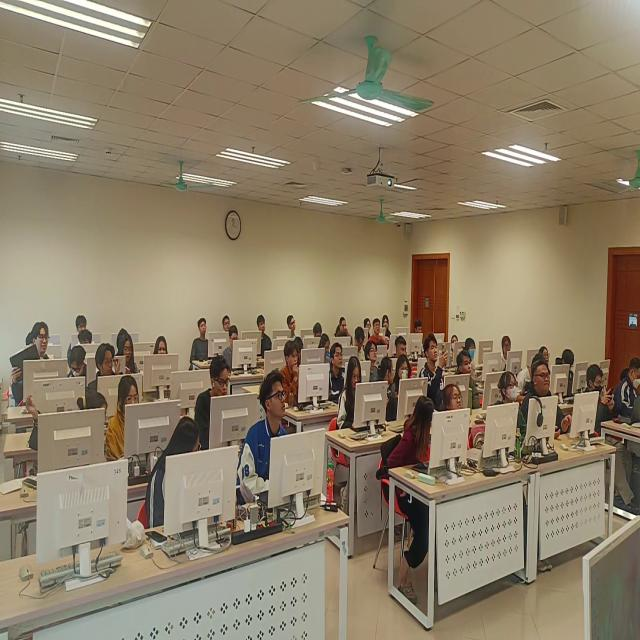raise_head: (239, 367, 291, 508), (523, 362, 575, 441), (197, 353, 233, 447), (490, 371, 528, 451), (13, 321, 52, 396), (91, 341, 117, 409), (455, 349, 482, 410), (281, 339, 302, 403), (328, 342, 346, 402), (191, 315, 212, 363), (440, 380, 466, 413), (256, 314, 274, 358), (364, 337, 381, 383), (335, 313, 351, 338), (395, 333, 411, 358), (153, 334, 170, 356), (372, 317, 385, 343), (466, 334, 478, 360), (285, 315, 300, 335), (501, 337, 513, 361), (76, 313, 88, 333), (451, 333, 461, 356), (383, 313, 391, 336), (541, 345, 551, 363), (223, 314, 233, 331), (364, 316, 372, 332)
using_computer: (107, 376, 142, 462), (337, 353, 365, 434), (615, 356, 640, 418), (557, 348, 576, 401), (517, 352, 543, 388), (222, 324, 241, 372), (66, 343, 88, 380), (315, 332, 332, 360), (77, 329, 96, 349), (354, 325, 365, 359), (296, 335, 305, 358), (313, 322, 325, 339), (415, 319, 424, 334), (415, 319, 424, 333)
using_phone: (581, 364, 616, 427), (421, 334, 451, 400), (117, 331, 142, 376)
